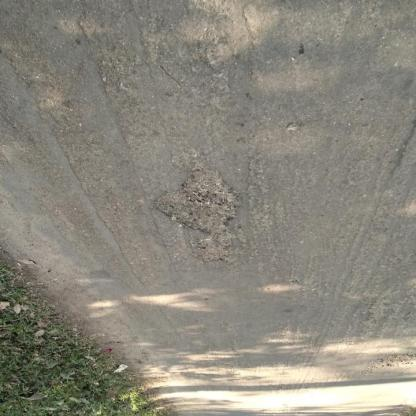pothole: (152, 165, 244, 264), (360, 350, 416, 378)
